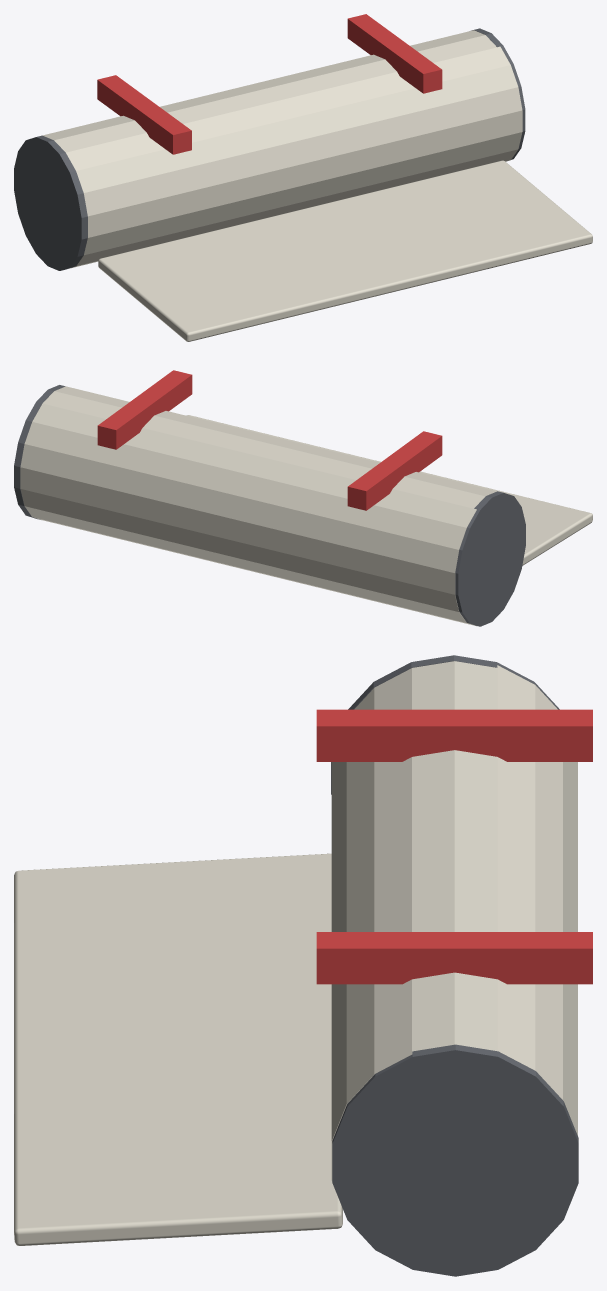
Rendered from fire-and-emergency-services-salvage-sheet-roll-4a7099e7__29934.glb.
3 views of the same model, one above another, from view 1: azimuth 30°, elevation 25°; view 2: azimuth 150°, elevation 25°; view 3: azimuth 270°, elevation 25° (orthographic). The views are drawn at different scales.
Parts seen in each view (by area): view 1: salvage-sheet-roll; view 2: salvage-sheet-roll; view 3: salvage-sheet-roll.
Boxes of the visible parts, <box> form: salvage-sheet-roll: <box>14,14,592,341</box>; salvage-sheet-roll: <box>14,370,592,626</box>; salvage-sheet-roll: <box>14,655,592,1276</box>.
Size of the model in its own units: 1.42 by 0.42 by 0.88.
